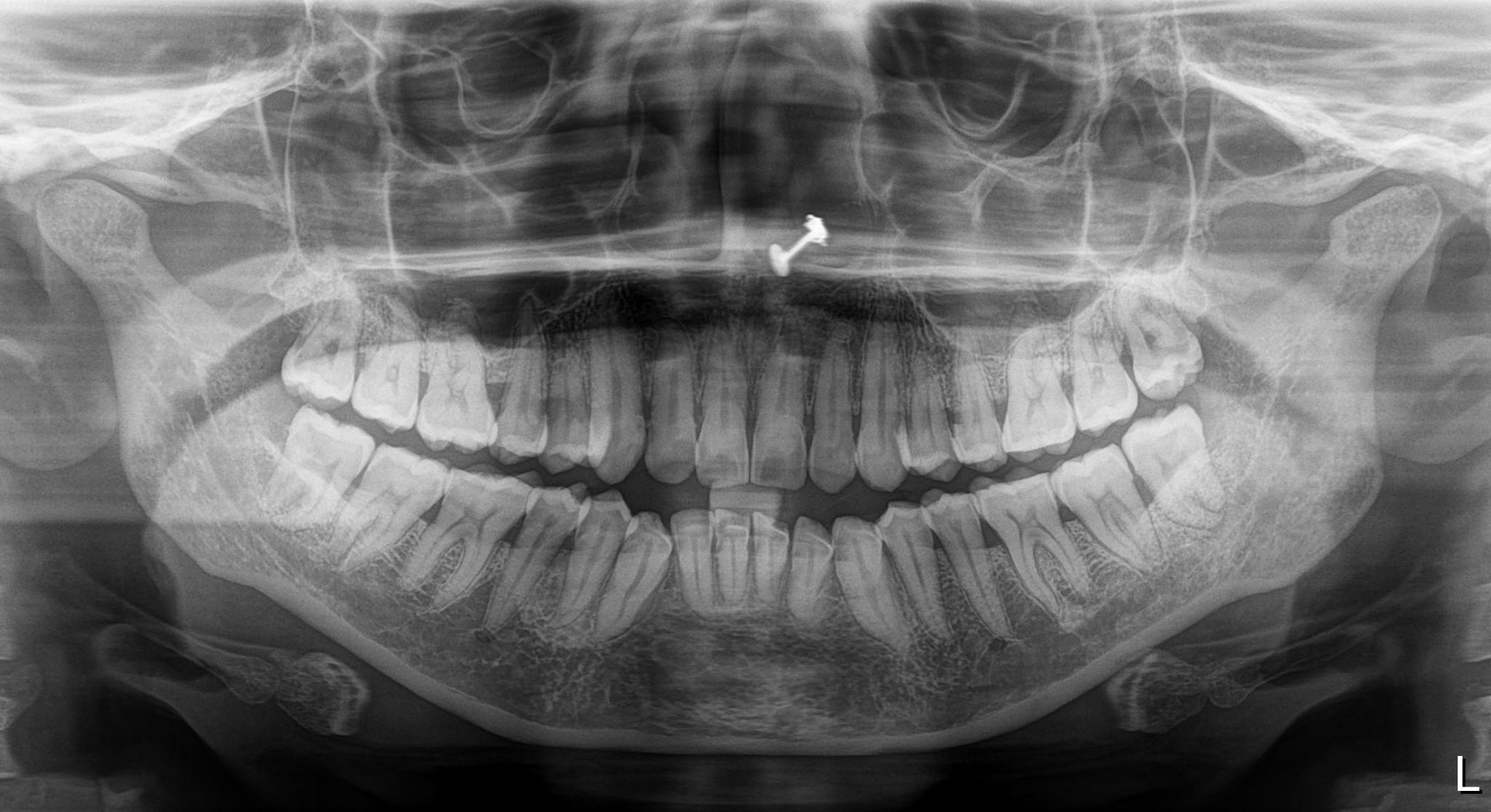Impacted Third Molar: (282, 398, 369, 532)
Periapical Lesion: (1161, 447, 1332, 561)
